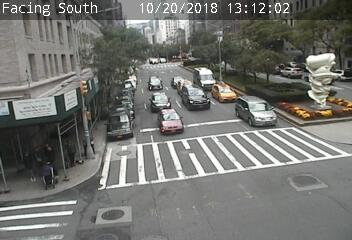car: (236, 98, 277, 125), (193, 68, 220, 88), (158, 110, 181, 132), (181, 90, 207, 107), (151, 95, 170, 109), (216, 84, 234, 98), (149, 77, 160, 86), (179, 81, 190, 89), (171, 78, 182, 85)
